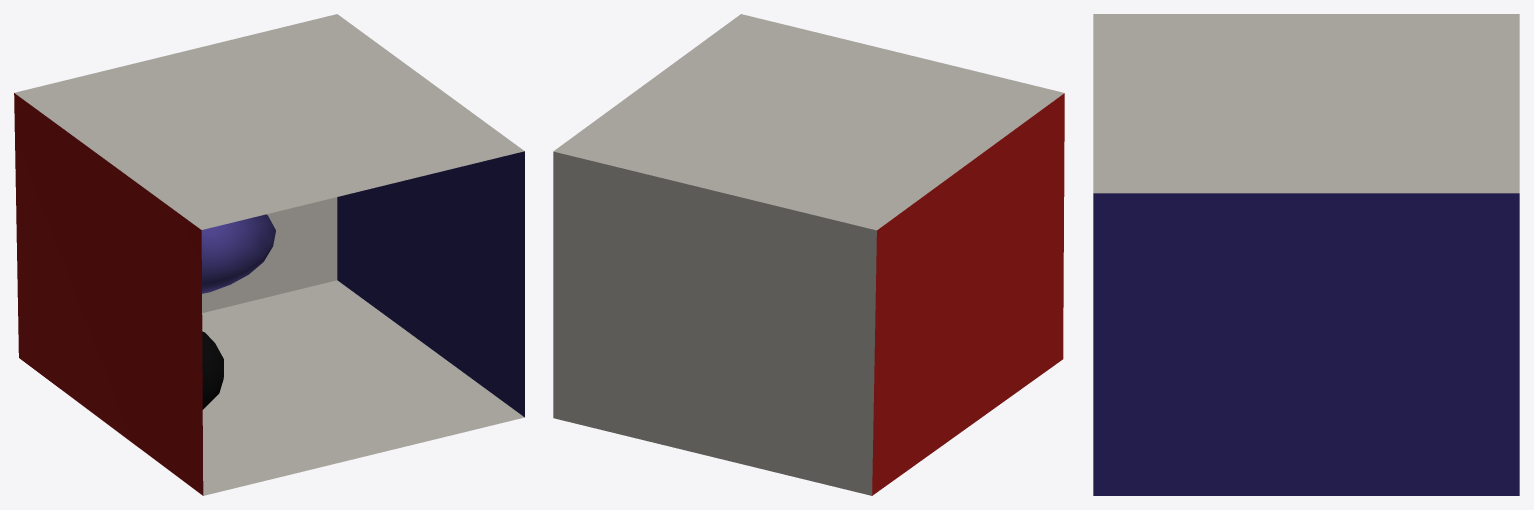
The model's file is CornellBox-Ellipsoid-39.obj.
3 views of the same model, side by side, from view 1: azimuth 30°, elevation 25°; view 2: azimuth 150°, elevation 25°; view 3: azimuth 270°, elevation 25° (orthographic). The views are drawn at different scales.
Visible parts, largest first — view 1: ceiling, leftWall, floor, rightWall, backWall, leftSphere, rightSphere; view 2: backWall, ceiling, leftWall; view 3: rightWall, ceiling.
Part boxes in pixels (box(x1,y1,x2,y2)): ceiling: box(14, 14, 524, 229); leftWall: box(14, 93, 203, 495); floor: box(202, 280, 524, 495); rightWall: box(337, 151, 524, 417); backWall: box(202, 197, 337, 312); leftSphere: box(201, 214, 275, 293); rightSphere: box(202, 331, 223, 409); backWall: box(553, 151, 876, 495); ceiling: box(553, 14, 1064, 230); leftWall: box(872, 93, 1064, 495); rightWall: box(1093, 193, 1519, 495); ceiling: box(1093, 14, 1519, 193).
Size of the model in its own units: 2.02 by 1.59 by 2.03.
